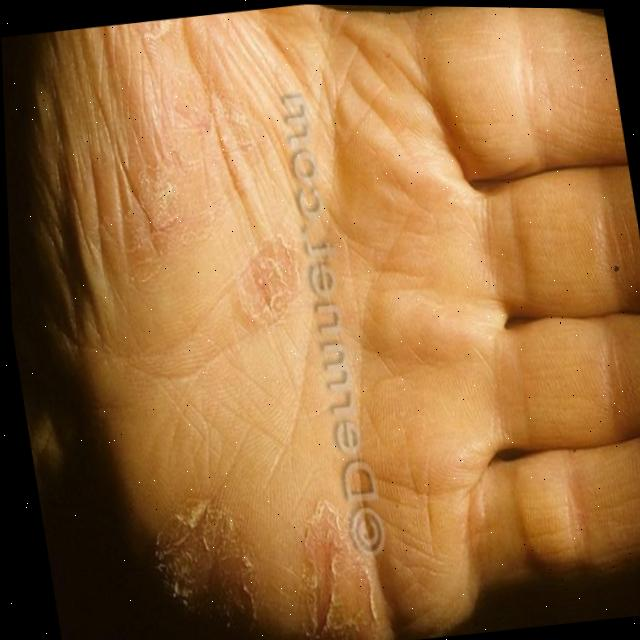Eczema: (164, 500, 420, 640), (240, 239, 322, 326)
